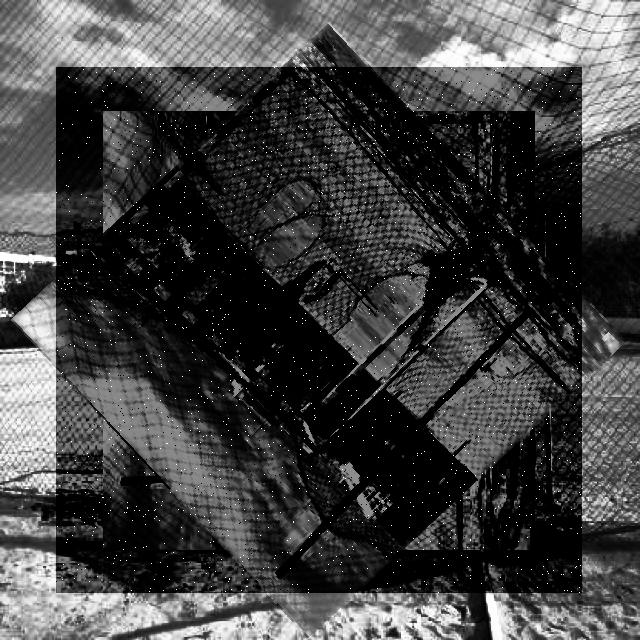anomaly-fence: (56, 67, 582, 593)
